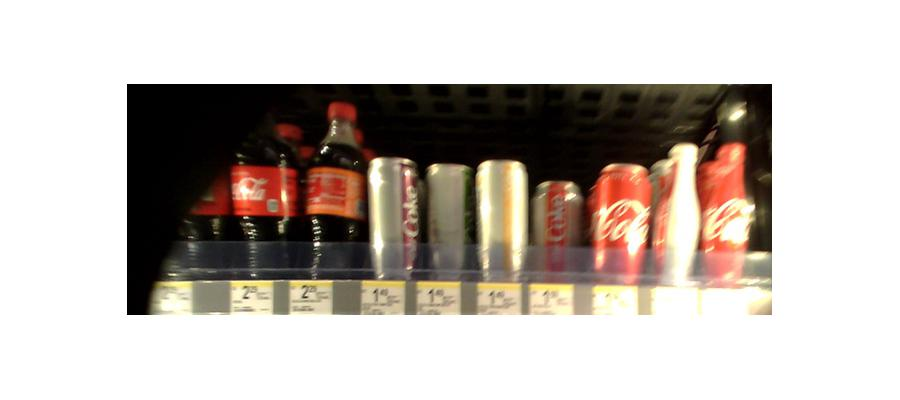bottle: (231, 106, 298, 276), (303, 101, 365, 279), (165, 140, 233, 286), (702, 133, 751, 286), (592, 163, 651, 280), (474, 158, 529, 281), (656, 146, 702, 290), (367, 154, 419, 279), (422, 157, 471, 279), (532, 178, 585, 281)
